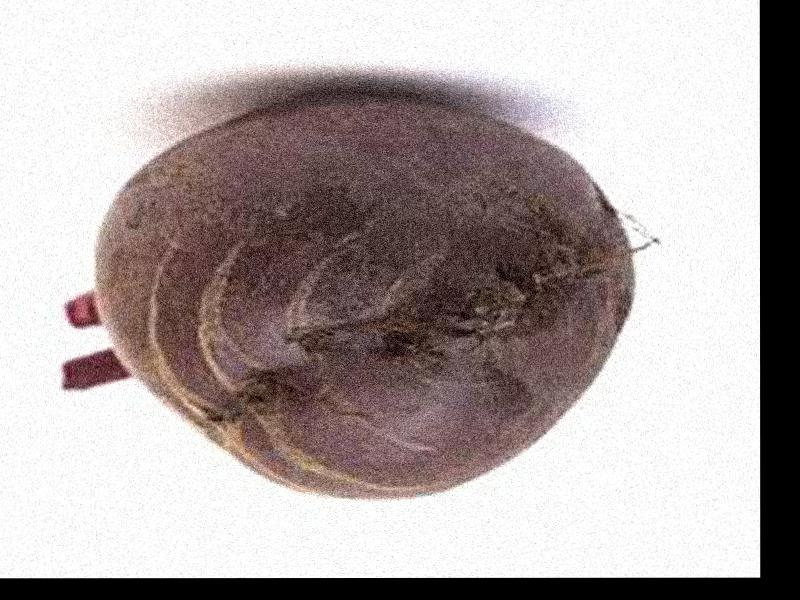Beet: (66, 86, 636, 503)
